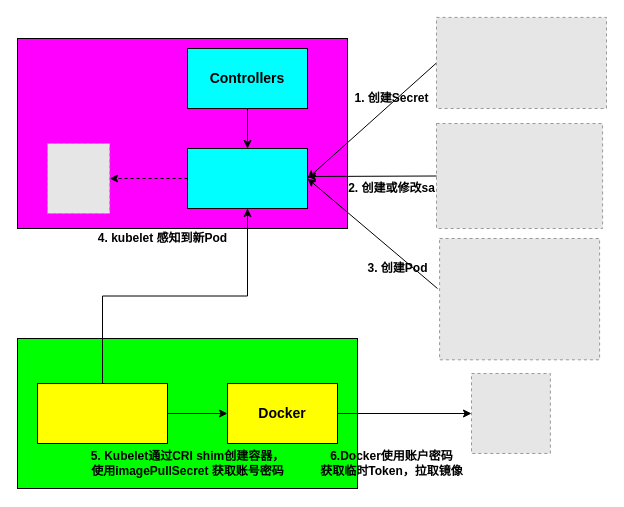
Image size: 624x507. Some labels were removed from this diagram. Grey dashed boxes stand in for pictures. The centre of each missing label's shape, as x and y in pixels:
API-Server: point (247, 178)
Kubelet: point (102, 413)
